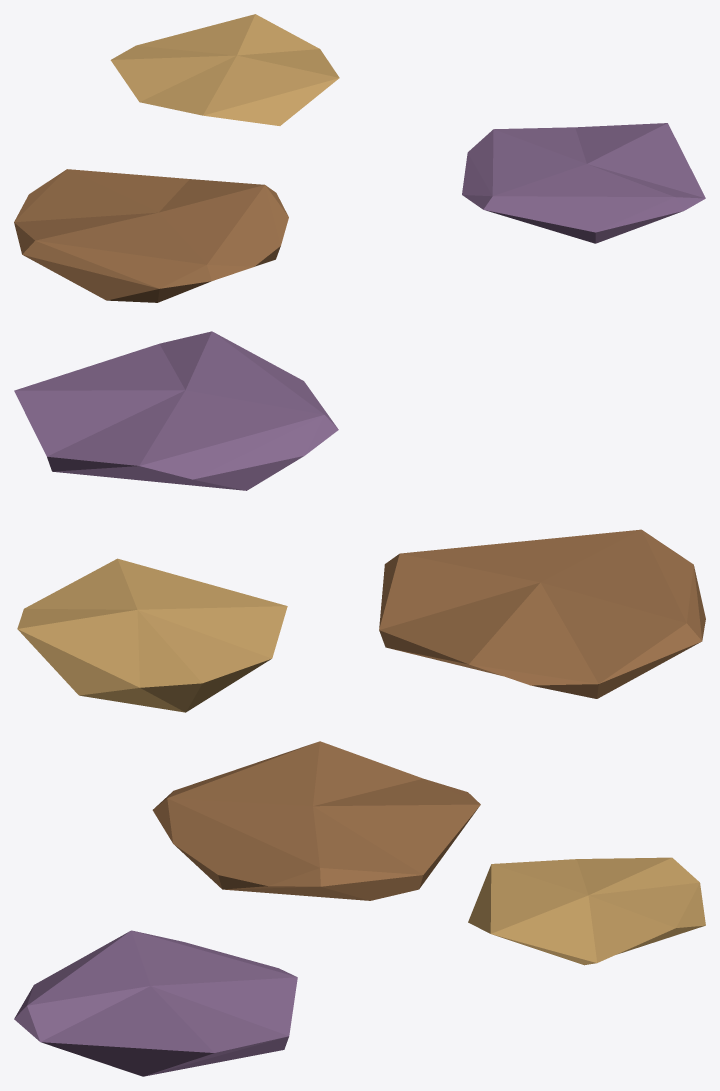
File: Flowers_02.FBX
3 views of the same model, one above another, from view 1: azimuth 30°, elevation 25°; view 2: azimuth 150°, elevation 25°; view 3: azimuth 270°, elevation 25° (orthographic). The views are drawn at different scales.
Visible parts, largest first — view 1: Flowers_02; view 2: Flowers_02; view 3: Flowers_02.
Boxes of the visible parts, left/top/right/bottom form: Flowers_02: left=14, top=14, right=705, bottom=302; Flowers_02: left=14, top=331, right=705, bottom=712; Flowers_02: left=14, top=741, right=705, bottom=1076.
Size of the model in its own units: 7.22 by 0.6358 by 6.41.
